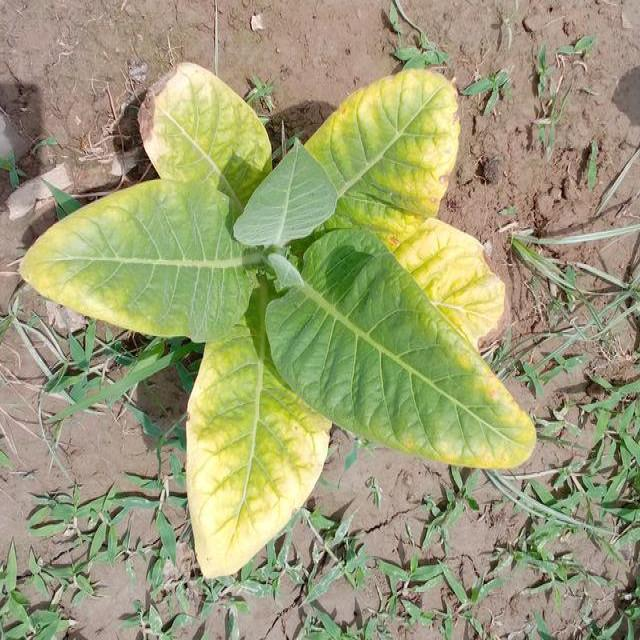crop: (48, 72, 530, 566)
